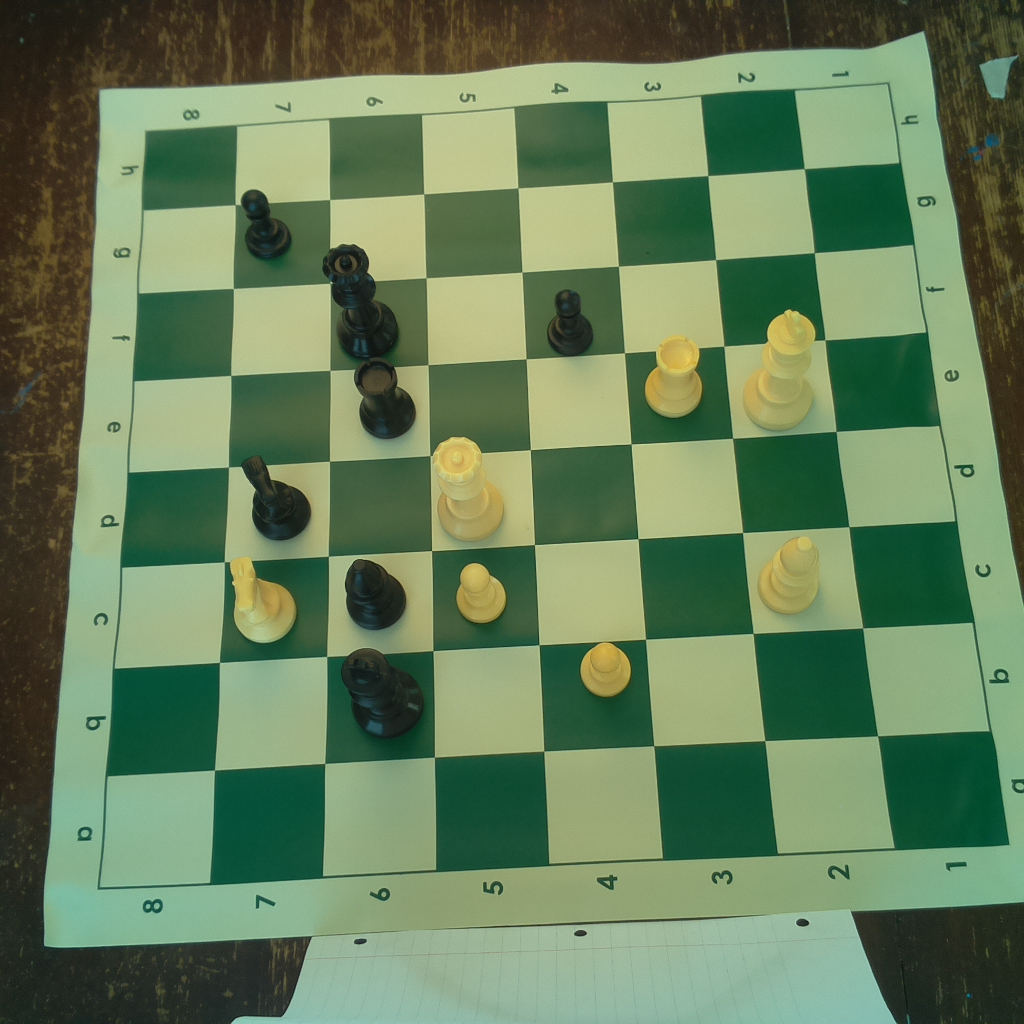black_bishop: (341, 556, 408, 631)
black_king: (338, 640, 427, 740)
black_knight: (236, 449, 315, 543)
black_pawn: (542, 286, 599, 360), (238, 188, 294, 261)
black_queen: (320, 243, 402, 357)
black_rook: (349, 357, 420, 444)
file_a: (98, 731, 1008, 891)
file_b: (107, 623, 996, 775)
file_c: (114, 522, 975, 670)
file_d: (121, 426, 959, 569)
file_e: (128, 332, 941, 474)
file_f: (134, 244, 928, 382)
file_g: (137, 161, 912, 296)
file_h: (144, 84, 901, 212)
outline: (99, 82, 1010, 891)
rank_1: (793, 82, 1008, 853)
rank_2: (702, 87, 893, 852)
rank_3: (607, 97, 779, 858)
rank_4: (516, 99, 667, 867)
rank_5: (421, 106, 553, 873)
rank_6: (320, 114, 437, 880)
rank_7: (212, 118, 327, 886)
rank_8: (98, 127, 236, 890)
white_bishop: (754, 532, 824, 615)
white_king: (741, 306, 819, 431)
white_knight: (224, 552, 298, 644)
white_pawn: (454, 558, 514, 623), (577, 636, 637, 701)
white_queen: (429, 432, 510, 545)
white_rook: (642, 332, 706, 418)
